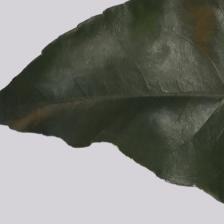healthy: (27, 9, 216, 162)
